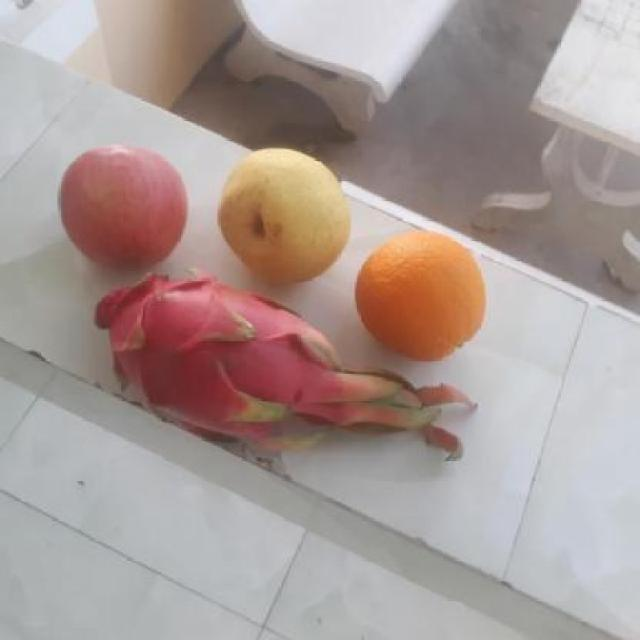apple: (54, 141, 189, 274)
dragon fruit: (87, 269, 344, 431)
oren: (348, 228, 490, 359)
pear: (212, 146, 357, 282)
